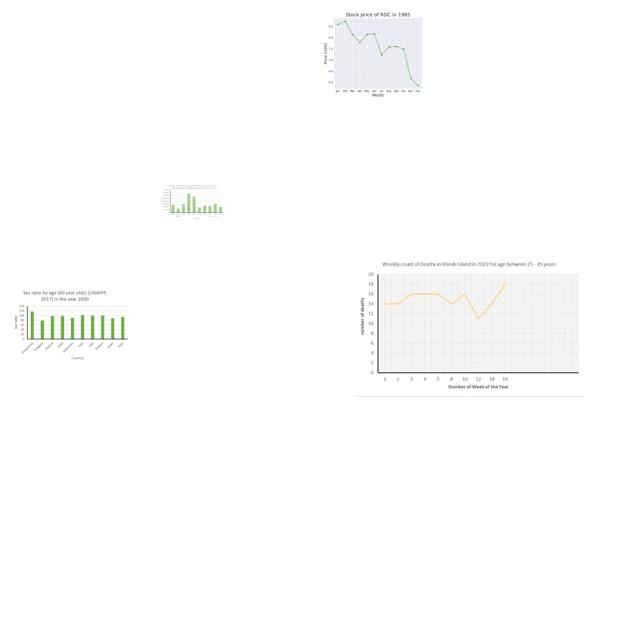Graph: (354, 257, 584, 397), (315, 7, 438, 99), (10, 287, 131, 363), (161, 184, 224, 220)
